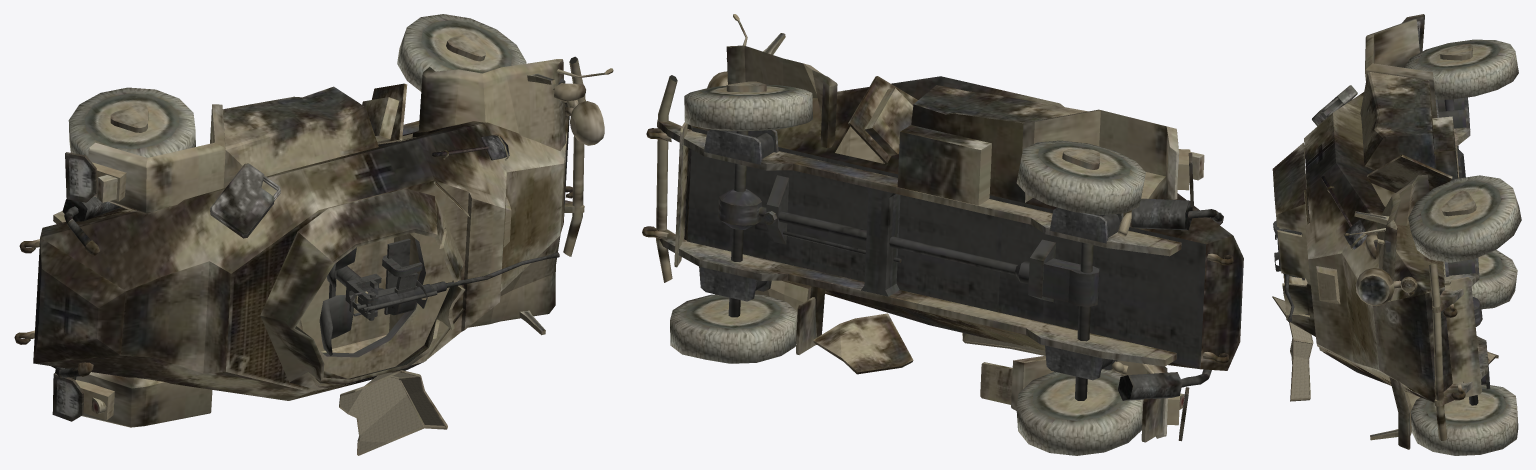
File: vehicle_german_armored_car_d.glb
The picture shows the model from 3 angles, left to right: view 1: azimuth 30°, elevation 25°; view 2: azimuth 150°, elevation 25°; view 3: azimuth 270°, elevation 25°; orthographic projection. The views are drawn at different scales.
Bounding box in the file's own units: 192 × 98.8 × 82.78.
2 materials, 2 textured.
